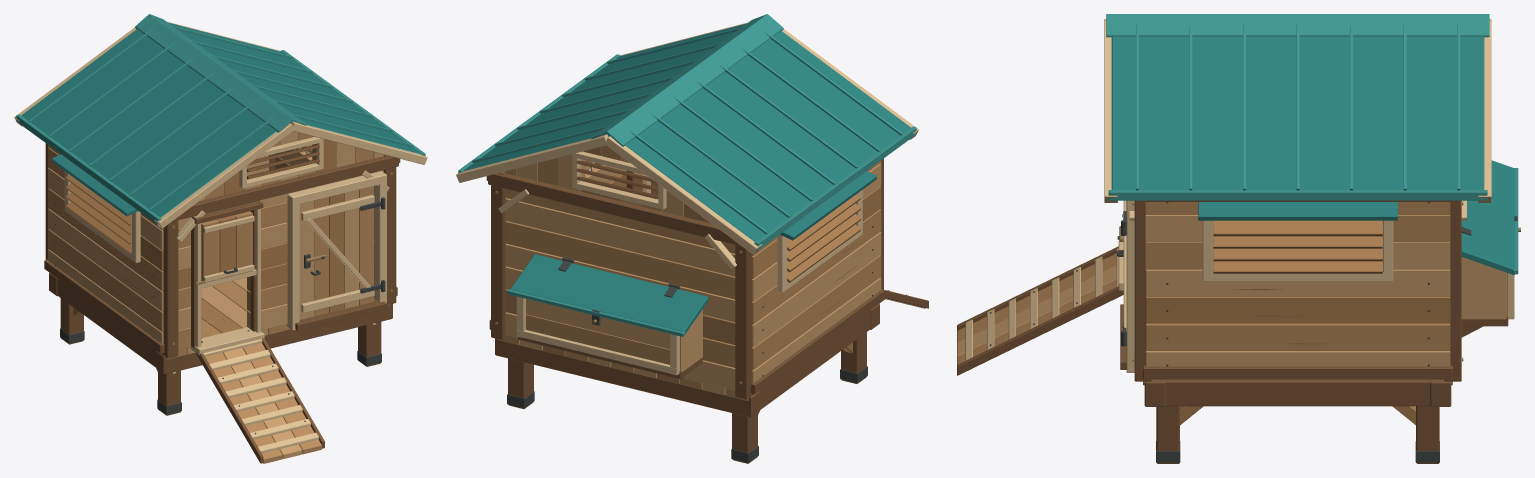
3 views of the same model, side by side, from view 1: azimuth 30°, elevation 25°; view 2: azimuth 150°, elevation 25°; view 3: azimuth 270°, elevation 25° (orthographic). The views are drawn at different scales.
Parts seen in each view (by area): view 1: Solid teal roof half, Solid teal roof half.001, Folded continuous ridge cap, Gable tie beam, Left siding 1.0, Left siding 2.0, Floor rim crossbeam, Corner upright, Floor rim sidebeam, Gable raking fascia, Access door jamb, Left siding 3.0 (+69 smaller); view 2: Solid teal roof half, Solid teal roof half.001, Hinged nest lid, Rear siding course 04 piece 0, Folded continuous ridge cap, Rear siding course 05 piece 0, Floor rim crossbeam.001, Gable tie beam.001, Left siding 1.0, Left siding 2.0, Corner upright.001, Nest cabinet rear board (+50 smaller); view 3: Solid teal roof half.001, Folded continuous ridge cap, Right siding 1.0, Right siding 2.0, Floor rim sidebeam.001, Right siding 3.0, Right siding 0.0, Long wall bottom rail.001, Hinged nest lid, Eave edge fold.001, Vent rain hood.001, Angled ventilation blade.007 (+32 smaller).
Boxes of the visible parts, left/top/right/bottom form: Solid teal roof half: left=21, top=29, right=276, bottom=217; Solid teal roof half.001: left=168, top=22, right=420, bottom=154; Folded continuous ridge cap: left=135, top=14, right=306, bottom=132; Gable tie beam: left=172, top=156, right=398, bottom=221; Left siding 1.0: left=48, top=229, right=163, bottom=331; Left siding 2.0: left=48, top=208, right=163, bottom=311; Floor rim crossbeam: left=156, top=303, right=392, bottom=374; Corner upright: left=162, top=220, right=178, bottom=358; Floor rim sidebeam: left=57, top=279, right=156, bottom=367; Gable raking fascia: left=154, top=123, right=293, bottom=228; Access door jamb: left=287, top=196, right=299, bottom=330; Left siding 3.0: left=48, top=188, right=163, bottom=291; Solid teal roof half: left=625, top=31, right=910, bottom=241; Solid teal roof half.001: left=463, top=23, right=746, bottom=170; Hinged nest lid: left=510, top=254, right=708, bottom=333; Rear siding course 04 piece 0: left=505, top=221, right=735, bottom=299; Folded continuous ridge cap: left=591, top=14, right=783, bottom=146; Rear siding course 05 piece 0: left=505, top=198, right=735, bottom=276; Floor rim crossbeam.001: left=495, top=338, right=759, bottom=417; Gable tie beam.001: left=488, top=173, right=741, bottom=246; Left siding 1.0: left=752, top=254, right=881, bottom=370; Left siding 2.0: left=752, top=232, right=881, bottom=347; Corner upright.001: left=735, top=245, right=753, bottom=399; Nest cabinet rear board: left=526, top=314, right=669, bottom=364; Solid teal roof half.001: left=1111, top=36, right=1484, bottom=189; Folded continuous ridge cap: left=1106, top=14, right=1489, bottom=37; Right siding 1.0: left=1145, top=323, right=1450, bottom=350; Right siding 2.0: left=1145, top=296, right=1450, bottom=323; Floor rim sidebeam.001: left=1164, top=380, right=1431, bottom=406; Right siding 3.0: left=1145, top=269, right=1450, bottom=296; Right siding 0.0: left=1145, top=351, right=1450, bottom=366; Long wall bottom rail.001: left=1143, top=365, right=1452, bottom=379; Hinged nest lid: left=1461, top=160, right=1514, bottom=274; Eave edge fold.001: left=1108, top=190, right=1487, bottom=200; Vent rain hood.001: left=1198, top=202, right=1397, bottom=220; Angled ventilation blade.007: left=1213, top=220, right=1382, bottom=236.
Bounding box in the file's own units: 2.55 × 2.58 × 3.47.
